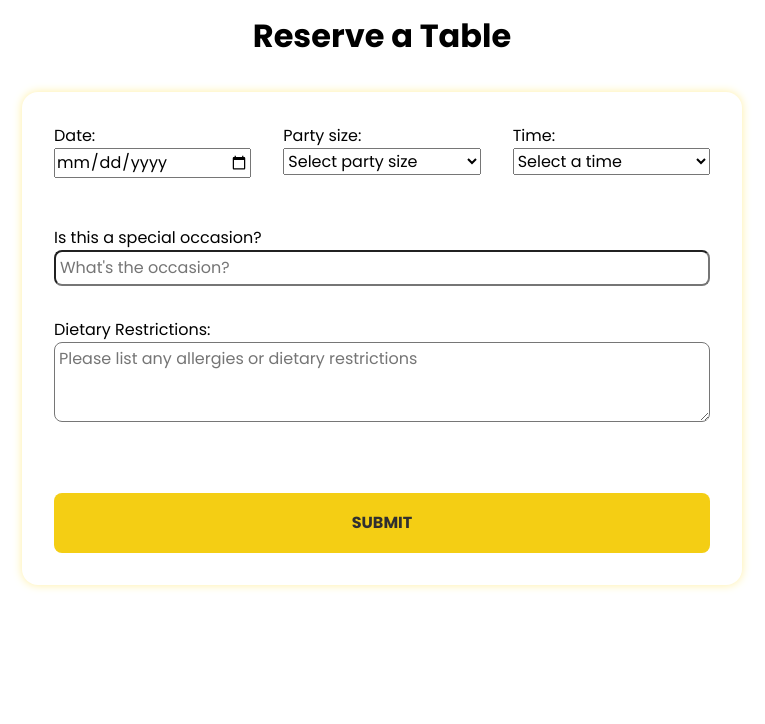
Test: Reservations › announces a successful reservation
In the date field labelled "Date:": (153, 163) [54, 148, 251, 178], type "2026-10-15"
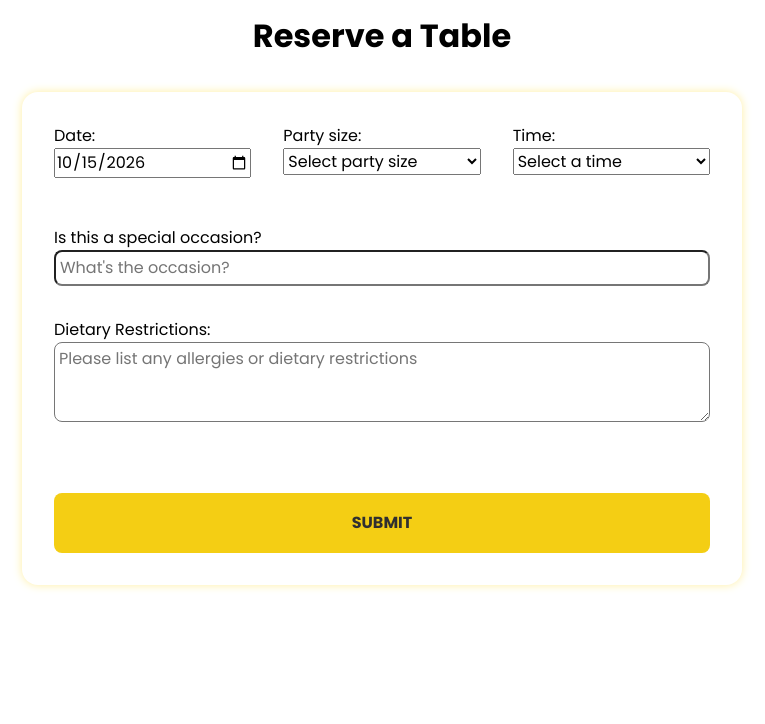
Select "2" in the dropdown labelled "Party size:": (382, 162) [283, 148, 481, 175]
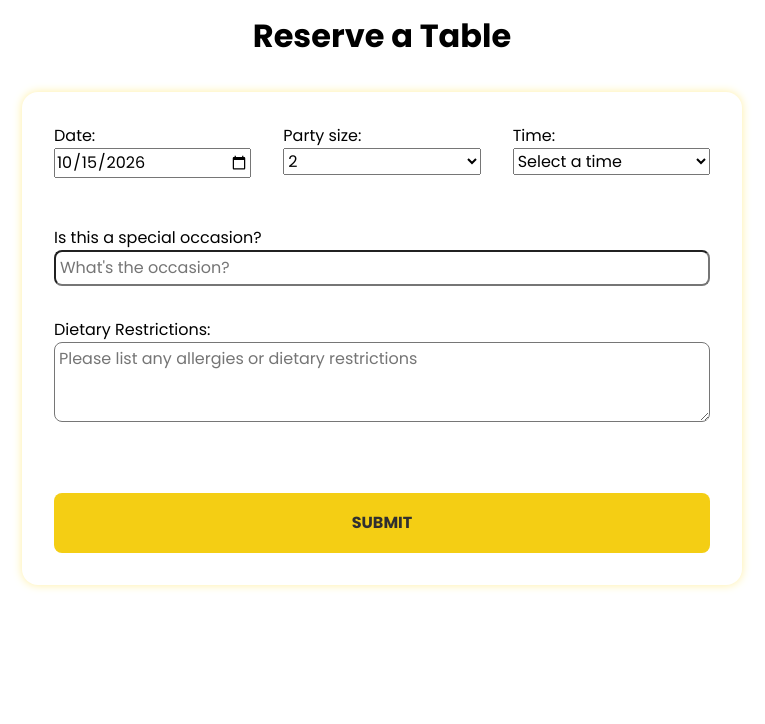
Select "17:00" in the dropdown labelled "Time:": (611, 162) [513, 148, 710, 175]
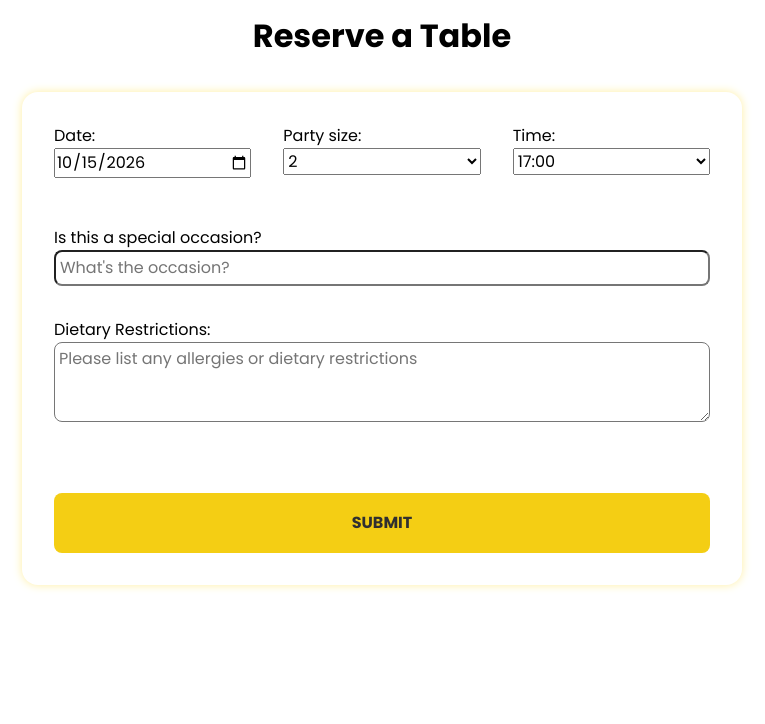
Click the button "Submit": (382, 523) [54, 493, 710, 553]
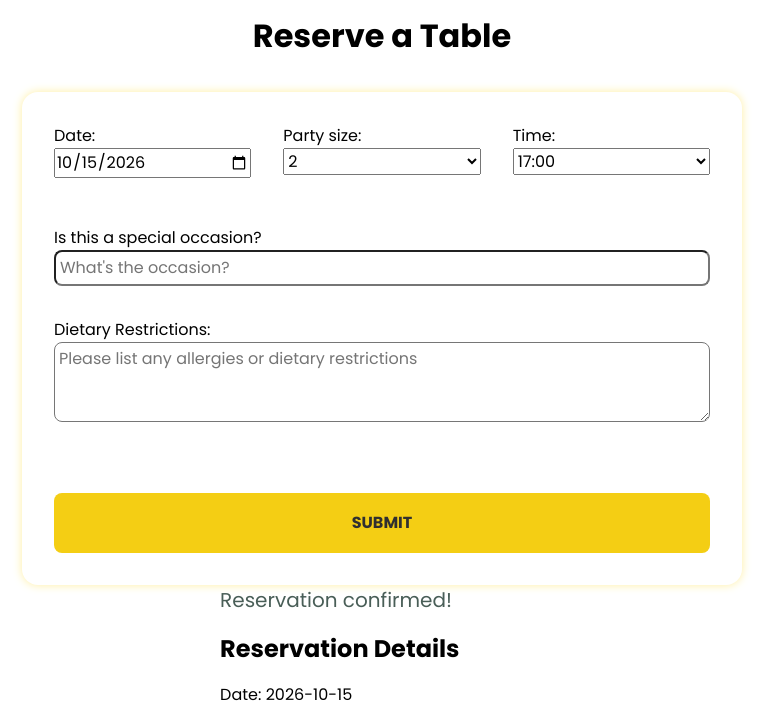
Result: the message reads "Reservation confirmed!" at [220, 586, 452, 614]
